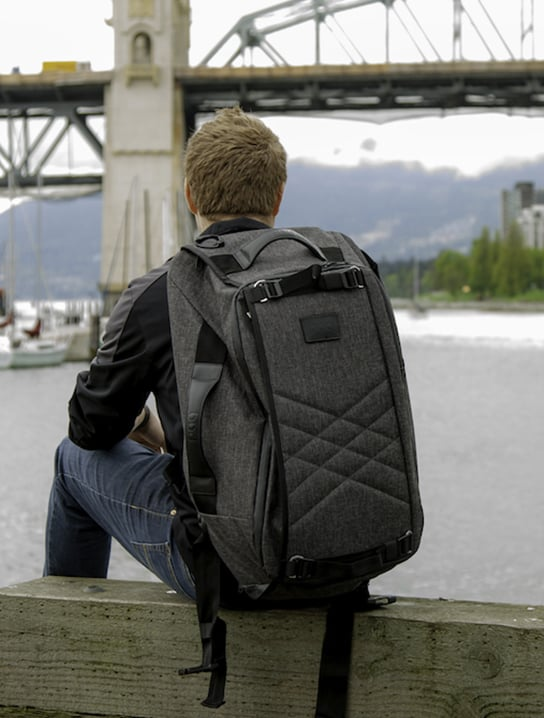backpack: (156, 221, 437, 607)
people: (23, 104, 389, 610)
